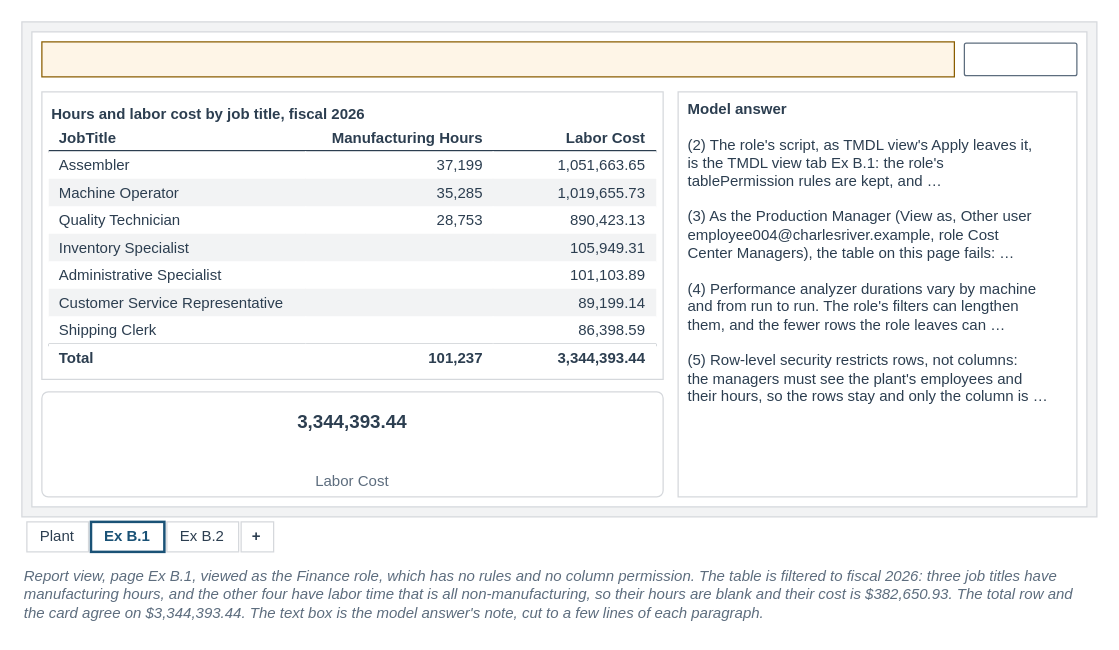
This 1119x650 diagram has some shape labels left out. The box of each missing label's shape, as (x1, y1, x2, y2) in pixels:
Stop viewing: (963, 42, 1077, 76)
Viewing as employee004@charlesriver.example in the role Finance: (41, 41, 954, 77)
